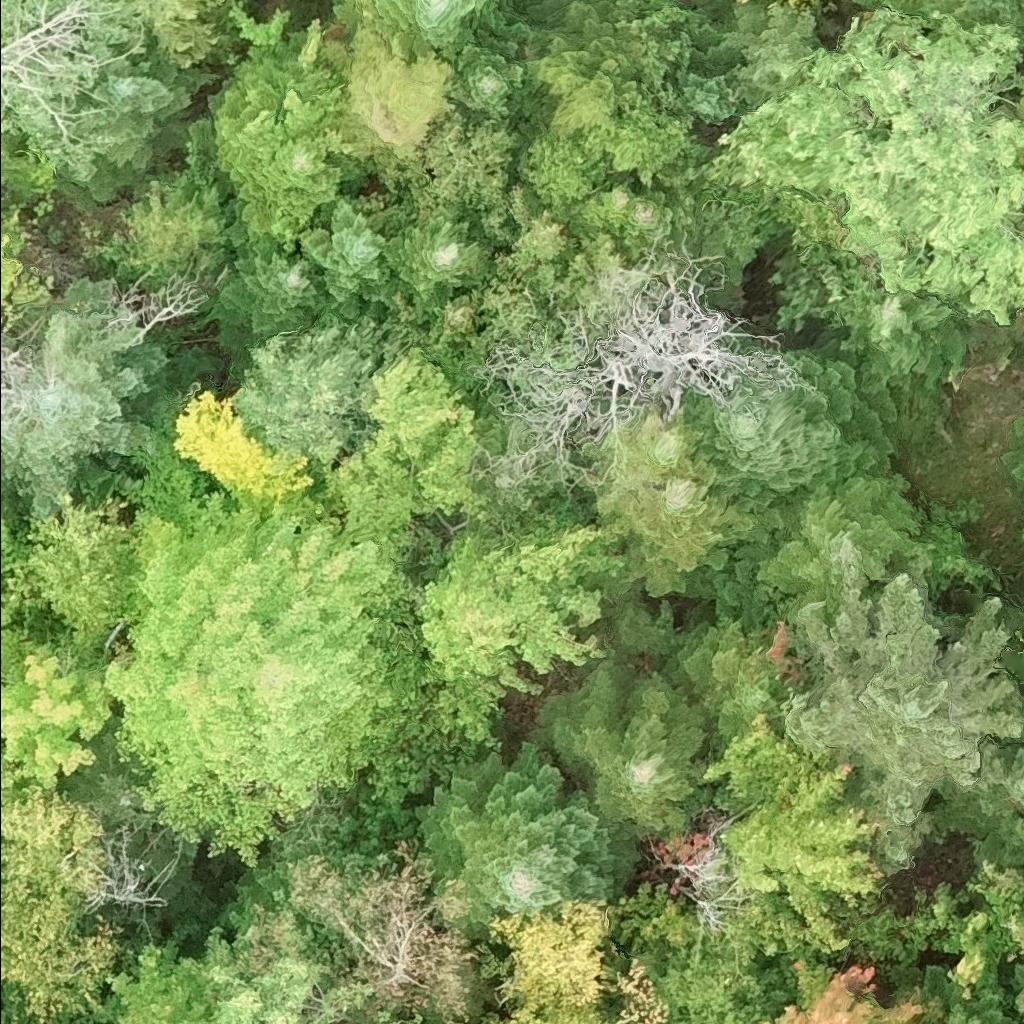crown: (104, 488, 434, 869), (704, 6, 1023, 328), (471, 226, 816, 501), (778, 550, 1023, 873), (407, 498, 627, 745), (699, 711, 887, 963), (310, 344, 514, 572), (414, 741, 636, 939), (0, 310, 172, 519), (288, 837, 480, 1023), (708, 473, 938, 622), (682, 338, 899, 495), (523, 654, 708, 835), (0, 754, 122, 1023), (585, 457, 785, 604), (224, 811, 403, 970), (67, 34, 220, 209), (323, 6, 453, 187), (212, 80, 345, 254), (237, 307, 381, 456), (644, 605, 786, 756), (22, 493, 135, 667), (200, 235, 335, 380), (170, 383, 318, 514), (397, 104, 521, 254), (0, 639, 117, 790), (205, 15, 341, 136), (519, 0, 636, 135), (101, 173, 236, 285), (447, 0, 569, 123), (831, 287, 967, 396), (484, 895, 609, 1013), (299, 194, 415, 321), (909, 880, 1022, 1002), (101, 925, 237, 1023), (749, 955, 944, 1023), (715, 0, 816, 127), (187, 957, 368, 1023), (927, 741, 1023, 865), (381, 212, 491, 312), (101, 255, 217, 344), (589, 408, 697, 499), (516, 125, 618, 217), (369, 0, 515, 60), (896, 954, 1022, 1023), (603, 97, 690, 193), (664, 20, 738, 128), (850, 0, 1023, 45), (148, 0, 232, 65), (0, 307, 54, 406), (620, 187, 695, 258), (968, 858, 1023, 950), (567, 178, 644, 240), (485, 999, 602, 1023), (997, 414, 1023, 498), (998, 603, 1023, 684), (783, 0, 835, 23), (1010, 960, 1023, 1023), (376, 1011, 431, 1023), (1009, 202, 1023, 236), (1015, 95, 1023, 120), (1019, 149, 1023, 167), (1021, 524, 1023, 545), (48, 1019, 58, 1023), (75, 1023, 76, 1023)
